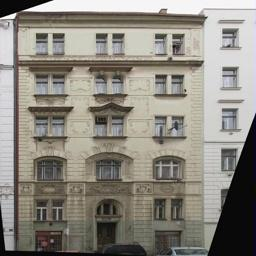building: (16, 12, 207, 255)
